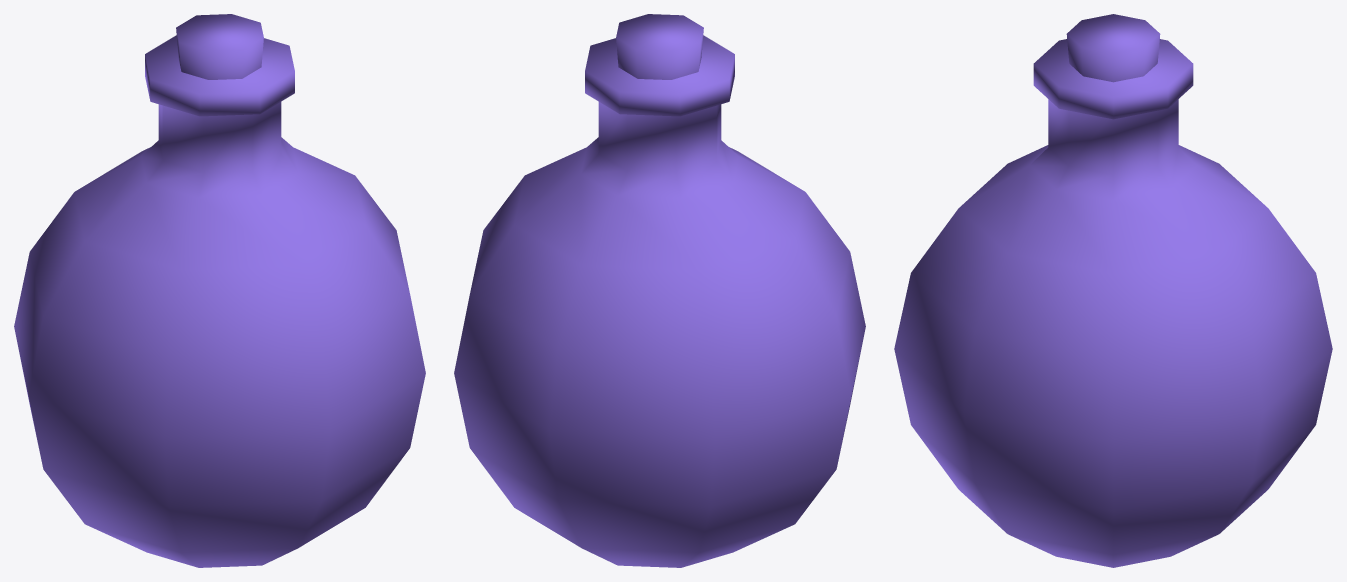
The model's file is bottle2_lowpoly.fbx.
3 renders of one model, left to right at view 1: azimuth 30°, elevation 25°; view 2: azimuth 150°, elevation 25°; view 3: azimuth 270°, elevation 25°, orthographic.
Parts seen in each view (by area): view 1: bottle2.lowpoly; view 2: bottle2.lowpoly; view 3: bottle2.lowpoly.
Part boxes in pixels (bbox=[...]): bottle2.lowpoly: bbox=[14, 14, 425, 567]; bottle2.lowpoly: bbox=[454, 14, 865, 567]; bottle2.lowpoly: bbox=[894, 14, 1332, 567].
Size of the model in its own units: 9.14 by 11.83 by 9.14.
